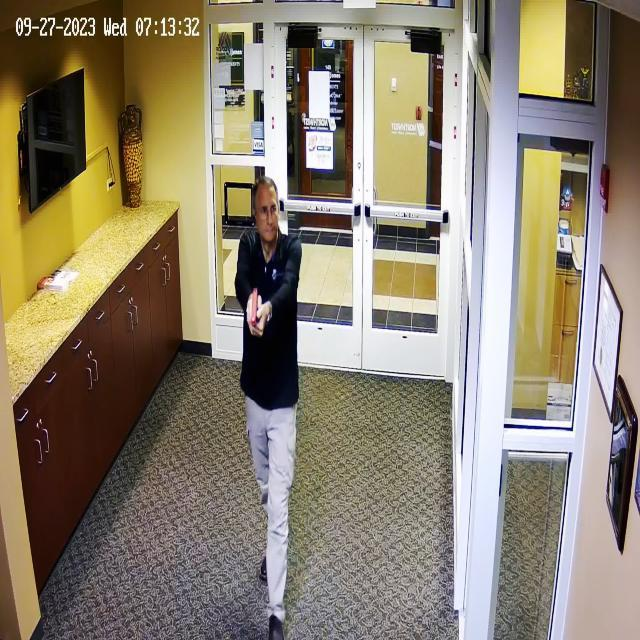Gun: (230, 283, 278, 344)
